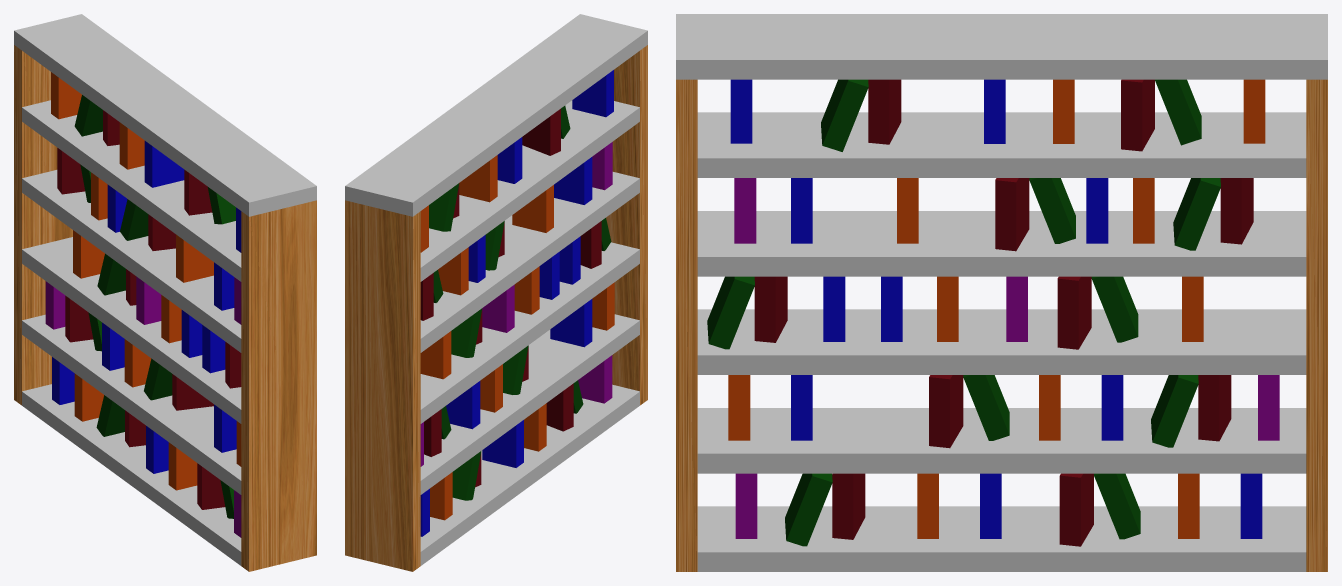
File: bookshelf.obj
3 views of the same model, side by side, from view 1: azimuth 30°, elevation 25°; view 2: azimuth 150°, elevation 25°; view 3: azimuth 270°, elevation 25° (orthographic). The views are drawn at different scales.
Parts seen in each view (by area): view 1: Cube.001, Cube.007, Cube.002, Cube.006, Cube.003, Cube.005, Cube.004, Cube, Cube.029, Cube.032, Cube.044, Cube.039 (+31 smaller); view 2: Cube.002, Cube.007, Cube.001, Cube.006, Cube.003, Cube.005, Cube, Cube.004, Cube.040, Cube.032, Cube.045, Cube.033 (+28 smaller); view 3: Cube.007, Cube.006, Cube.005, Cube.003, Cube.004, Cube, Cube.001, Cube.002, Cube.016, Cube.008, Cube.023, Cube.015 (+40 smaller).
Part boxes in pixels (left/top/right/bottom): Cube.001: left=241, top=200, right=316, bottom=571; Cube.007: left=14, top=14, right=316, bottom=216; Cube.002: left=14, top=45, right=72, bottom=405; Cube.006: left=22, top=100, right=241, bottom=281; Cube.003: left=22, top=314, right=241, bottom=494; Cube.005: left=22, top=170, right=241, bottom=352; Cube.004: left=22, top=237, right=241, bottom=423; Cube: left=22, top=384, right=241, bottom=565; Cube.029: left=144, top=141, right=184, bottom=187; Cube.032: left=176, top=234, right=213, bottom=282; Cube.044: left=168, top=442, right=197, bottom=490; Cube.039: left=73, top=230, right=104, bottom=278; Cube.002: left=345, top=200, right=420, bottom=571; Cube.007: left=345, top=14, right=647, bottom=216; Cube.001: left=606, top=45, right=647, bottom=405; Cube.006: left=420, top=100, right=639, bottom=281; Cube.003: left=420, top=314, right=639, bottom=494; Cube.005: left=420, top=172, right=639, bottom=352; Cube: left=420, top=384, right=639, bottom=565; Cube.004: left=420, top=242, right=639, bottom=423; Cube.040: left=550, top=299, right=592, bottom=347; Cube.032: left=512, top=185, right=553, bottom=232; Cube.045: left=482, top=420, right=523, bottom=467; Cube.033: left=554, top=157, right=592, bottom=204; Cube.007: left=676, top=14, right=1327, bottom=79; Cube.006: left=697, top=112, right=1306, bottom=177; Cube.005: left=697, top=211, right=1306, bottom=276; Cube.003: left=697, top=408, right=1306, bottom=473; Cube.004: left=697, top=309, right=1306, bottom=374; Cube: left=697, top=506, right=1306, bottom=571; Cube.001: left=676, top=79, right=697, bottom=571; Cube.002: left=1306, top=79, right=1327, bottom=571; Cube.016: left=1059, top=473, right=1093, bottom=546; Cube.008: left=1057, top=276, right=1091, bottom=349; Cube.023: left=995, top=178, right=1029, bottom=251; Cube.015: left=929, top=375, right=963, bottom=448.
Bounding box in the file's own units: 1 × 5.2 × 6.
7 materials, 1 textured.
